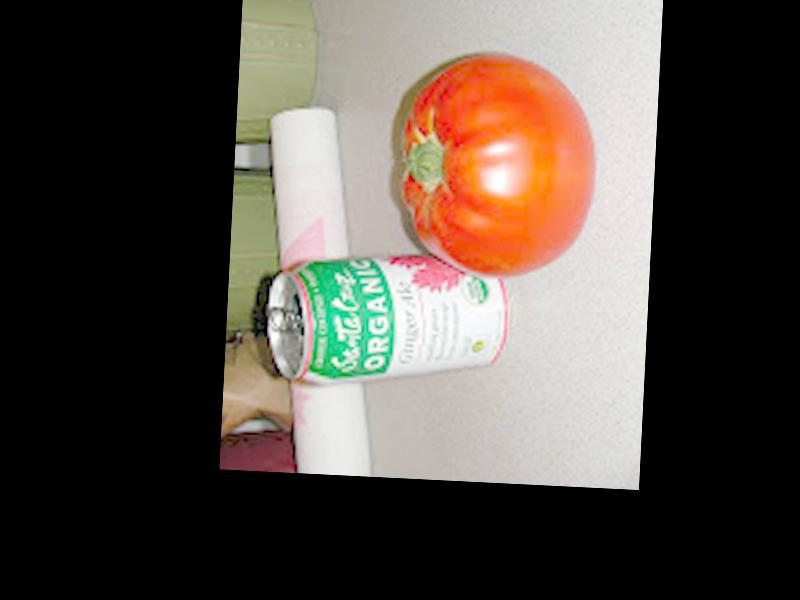Tomato: (397, 52, 598, 279)
